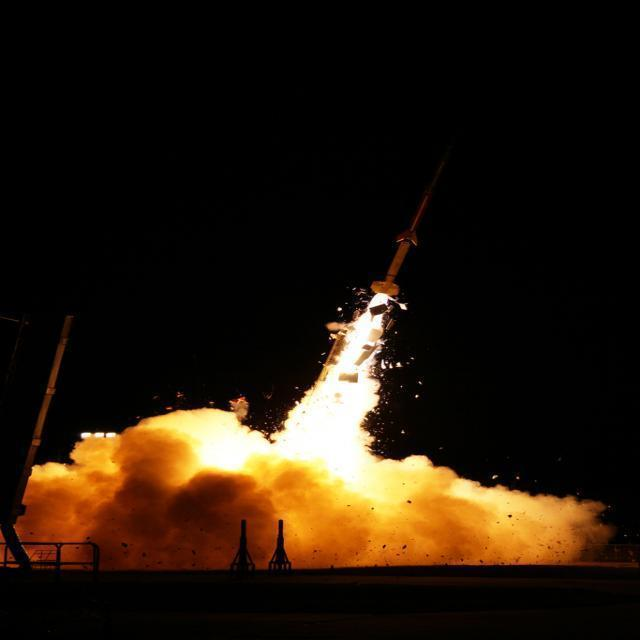missile: (368, 158, 463, 298)
